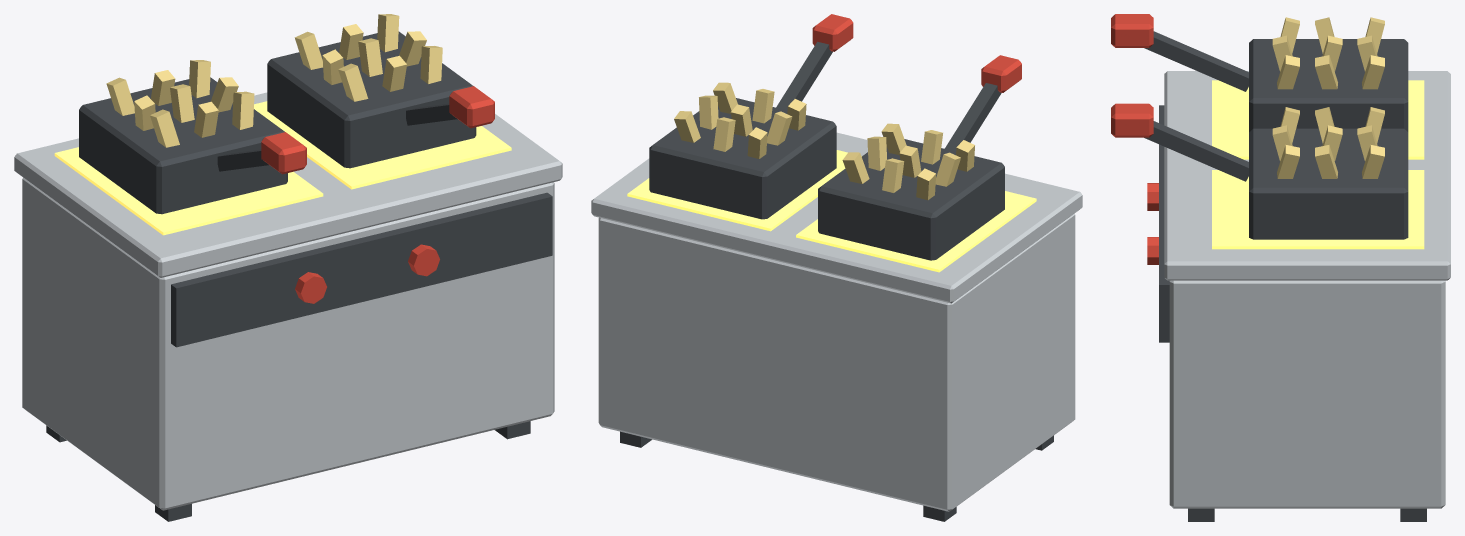
Rendered from fryer.glb.
3 views of the same model, side by side, from view 1: azimuth 30°, elevation 25°; view 2: azimuth 150°, elevation 25°; view 3: azimuth 270°, elevation 25° (orthographic). The views are drawn at different scales.
Visible parts, largest first — view 1: fryer; view 2: fryer; view 3: fryer.
Boxes of the visible parts, x1,y1,x2,y2 form: fryer: [14, 14, 562, 521]; fryer: [591, 14, 1082, 521]; fryer: [1111, 14, 1450, 521].
Bounding box in the file's own units: 0.43 × 0.3865 × 0.32.
